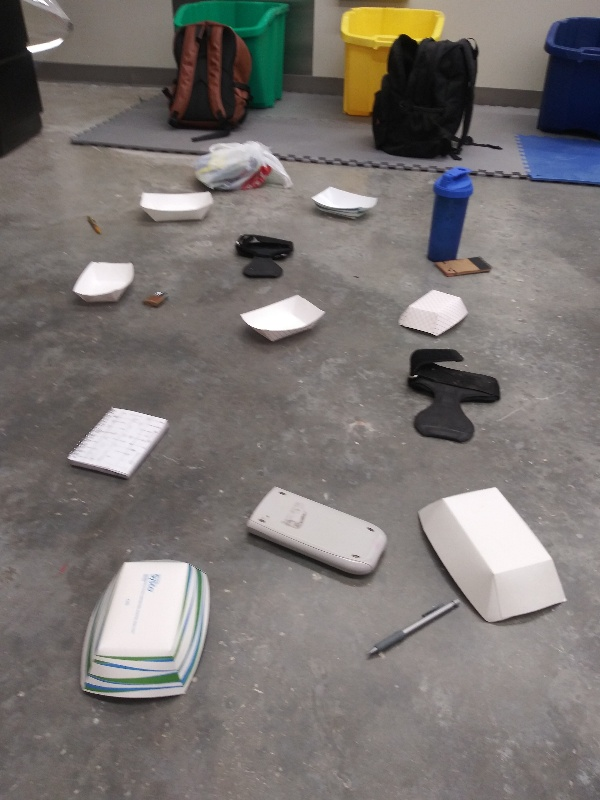plate: (409, 479, 572, 629), (76, 558, 215, 701), (238, 291, 331, 347), (394, 288, 474, 339), (67, 259, 143, 309), (133, 187, 219, 228), (305, 184, 382, 223)
